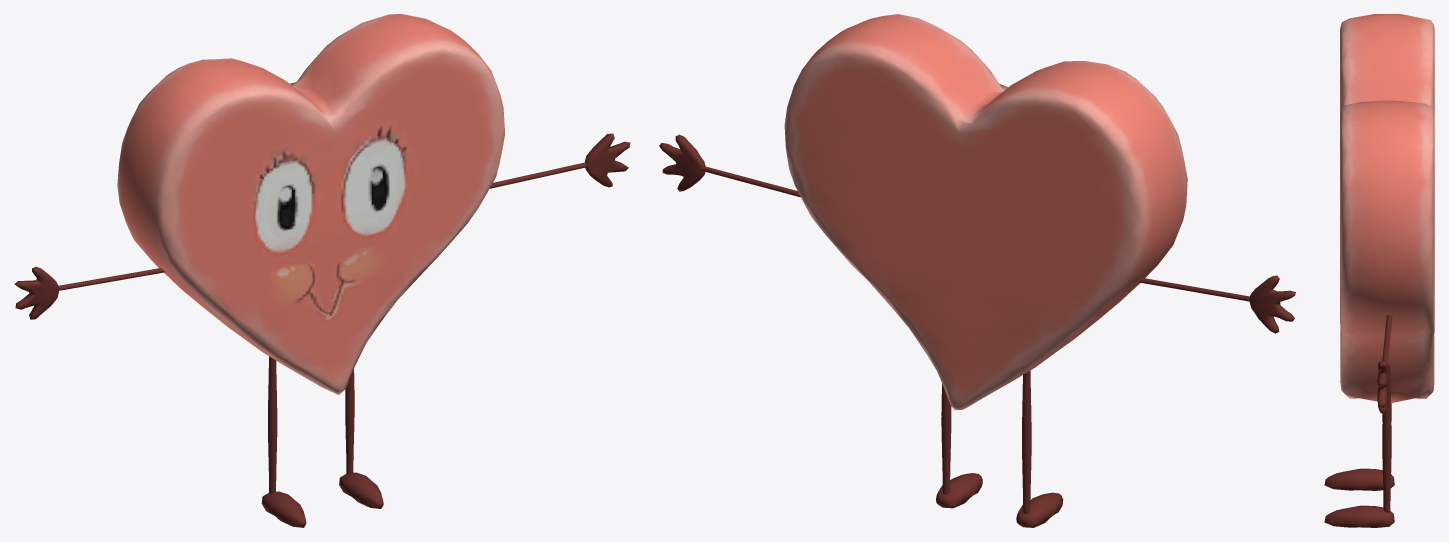
File: heartHugger2.fbx
3 views of the same model, side by side, from view 1: azimuth 30°, elevation 25°; view 2: azimuth 150°, elevation 25°; view 3: azimuth 270°, elevation 25° (orthographic). The views are drawn at different scales.
Visible parts, largest first — view 1: heart:MSH_Heart_Face_hugger2; view 2: heart:MSH_Heart_Face_hugger2; view 3: heart:MSH_Heart_Face_hugger2.
Part boxes in pixels (x1,y1,x2,y2): heart:MSH_Heart_Face_hugger2: [14, 14, 630, 527]; heart:MSH_Heart_Face_hugger2: [659, 14, 1295, 527]; heart:MSH_Heart_Face_hugger2: [1324, 14, 1434, 527].
Size of the model in its own units: 95.2 by 66.31 by 15.1.
1 material, 1 textured.
